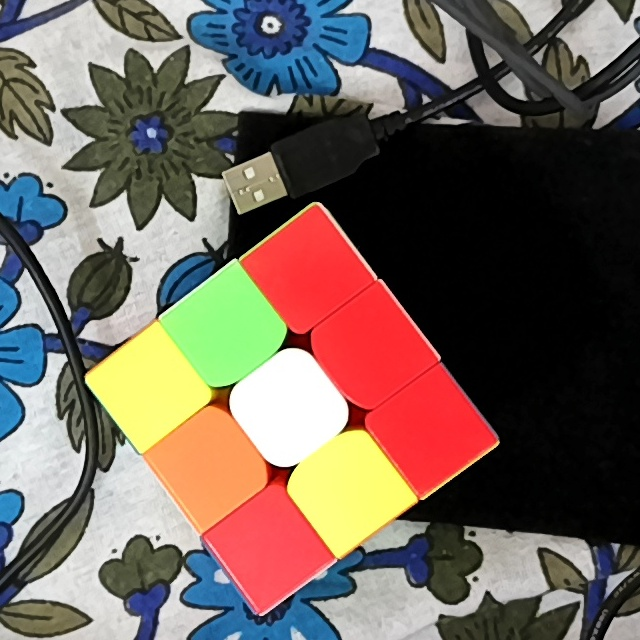tile: (337, 314, 406, 385), (176, 430, 242, 502), (398, 397, 467, 465), (235, 514, 304, 582), (274, 238, 342, 305), (192, 297, 260, 364), (253, 374, 319, 440), (314, 457, 382, 521), (119, 356, 180, 422)
